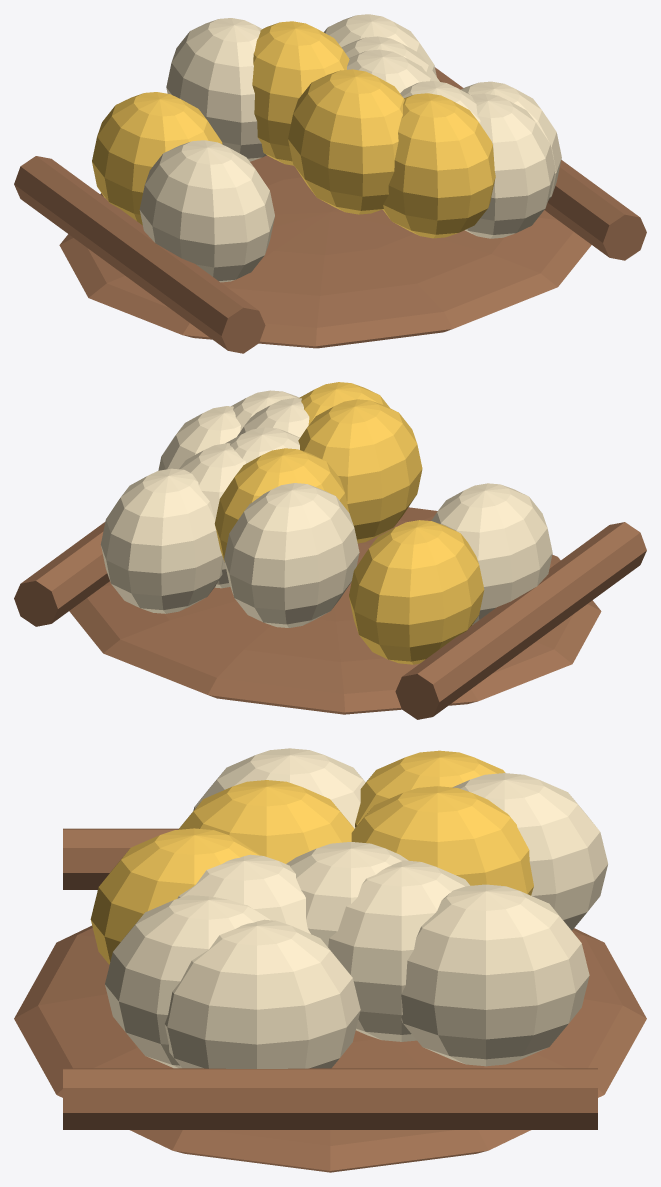
File: Pile.fbx
3 views of the same model, one above another, from view 1: azimuth 30°, elevation 25°; view 2: azimuth 150°, elevation 25°; view 3: azimuth 270°, elevation 25° (orthographic). The views are drawn at different scales.
Visible parts, largest first — view 1: Work bed, Edge twig, Acorn.004, Acorn.006, Acorn.003, Acorn.008, Acorn.009, Acorn.010, Acorn, Edge twig.001, Acorn.007, Acorn.011 (+3 smaller); view 2: Work bed, Acorn.008, Acorn.009, Edge twig, Acorn.007, Acorn.006, Acorn.004, Edge twig.001, Acorn, Acorn.001, Acorn.002, Acorn.005 (+3 smaller); view 3: Work bed, Edge twig.001, Acorn.007, Acorn.001, Acorn.002, Acorn, Acorn.010, Acorn.008, Acorn.003, Acorn.006, Acorn.011, Acorn.004 (+3 smaller).
Part boxes in pixels (x1,y1,x2,y2): Work bed: (59,155,591,348); Edge twig: (14,156,265,353); Acorn.004: (139,140,274,282); Acorn.006: (288,69,404,214); Acorn.003: (382,93,495,238); Acorn.008: (166,18,266,161); Acorn.009: (92,92,222,225); Acorn.010: (465,93,555,238); Acorn: (252,21,349,165); Edge twig.001: (435,67,646,260); Acorn.007: (324,14,436,76); Acorn.011: (347,49,432,92); Work bed: (69,507,601,714); Acorn.008: (224,483,359,627); Acorn.009: (349,520,484,664); Edge twig: (395,522,646,719); Acorn.007: (100,468,223,613); Acorn.006: (298,399,422,543); Acorn.004: (431,483,552,624); Edge twig.001: (14,522,109,626); Acorn: (214,448,348,562); Acorn.001: (158,406,240,470); Acorn.002: (179,443,245,588); Acorn.005: (237,398,309,437); Work bed: (14,925,646,1172); Edge twig.001: (63,1068,597,1129); Acorn.007: (401,884,589,1066); Acorn.001: (164,919,360,1068); Acorn.002: (328,860,470,1041); Acorn: (351,786,533,895); Acorn.010: (105,895,270,1068); Acorn.008: (452,773,607,930); Acorn.003: (90,828,260,964); Acorn.006: (178,780,354,863); Acorn.011: (286,842,408,946); Acorn.004: (193,748,365,828).
Bounding box in the file's own units: 132 × 53.96 × 116.
